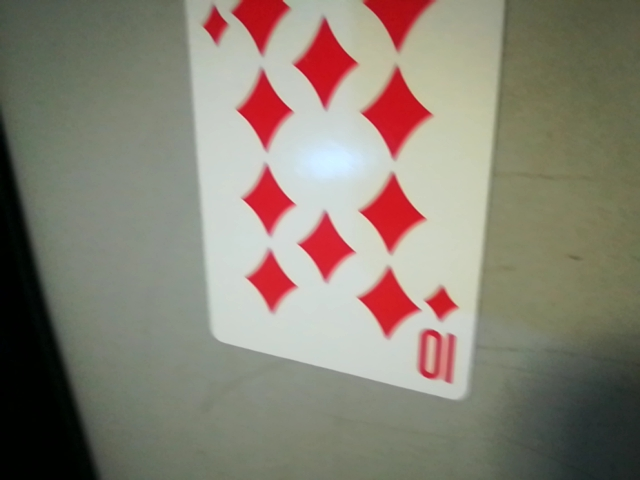fk 10: (407, 274, 469, 396)
